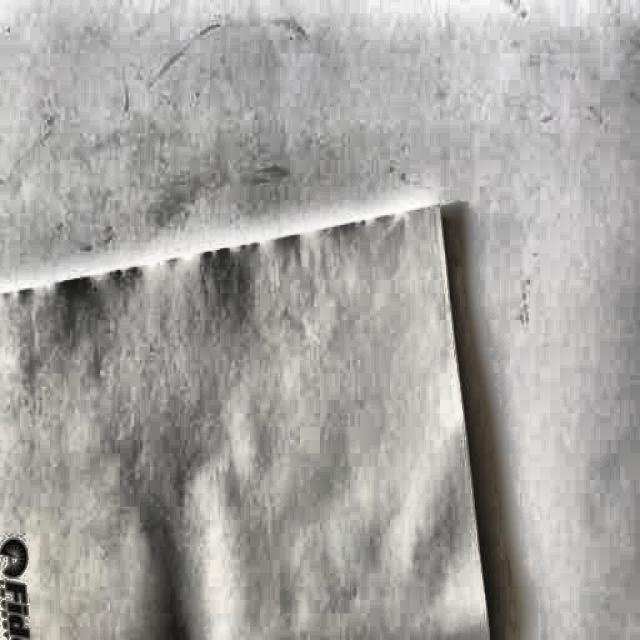paper: (6, 200, 502, 640)
